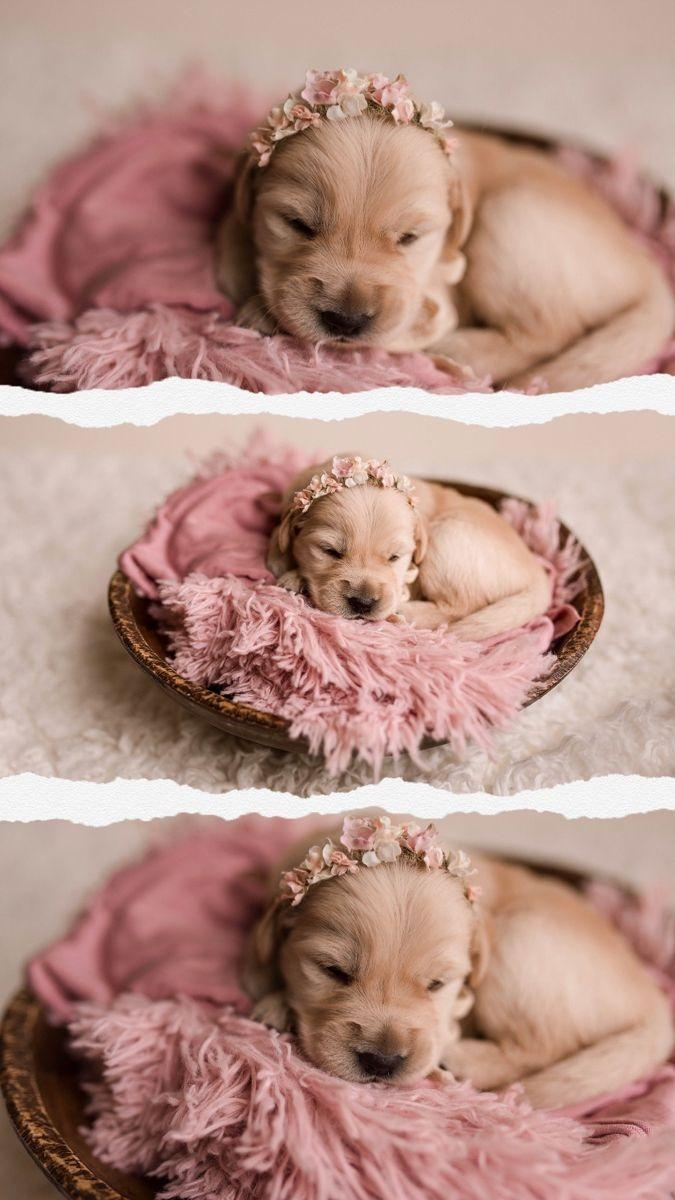puppy-dog: (212, 114, 675, 394), (238, 842, 675, 1112), (263, 480, 551, 645)
